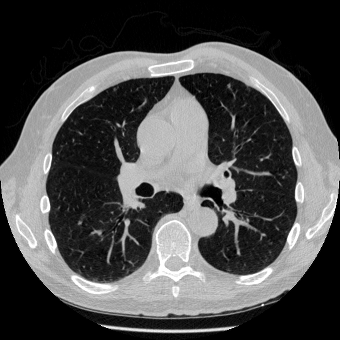nodule: (227, 83, 231, 87)
